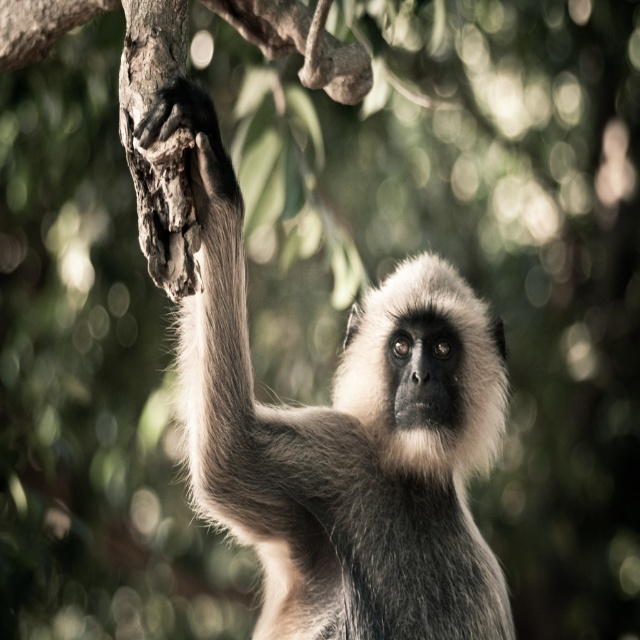Monkey: (132, 75, 518, 640)
